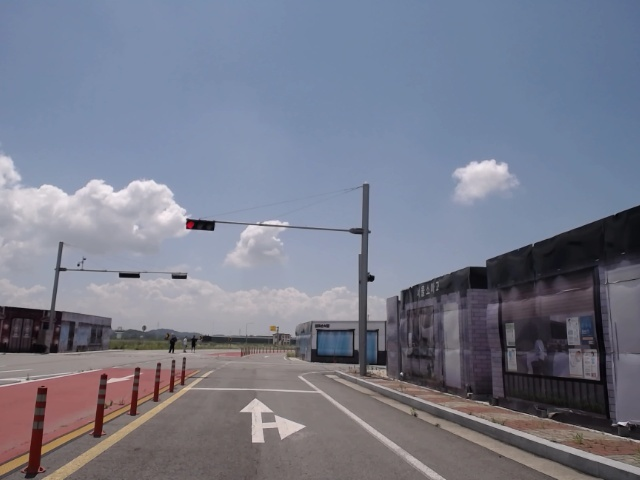red_3: (185, 219, 215, 232)
